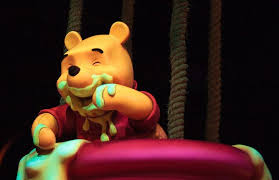Winnie: (48, 23, 164, 139)
